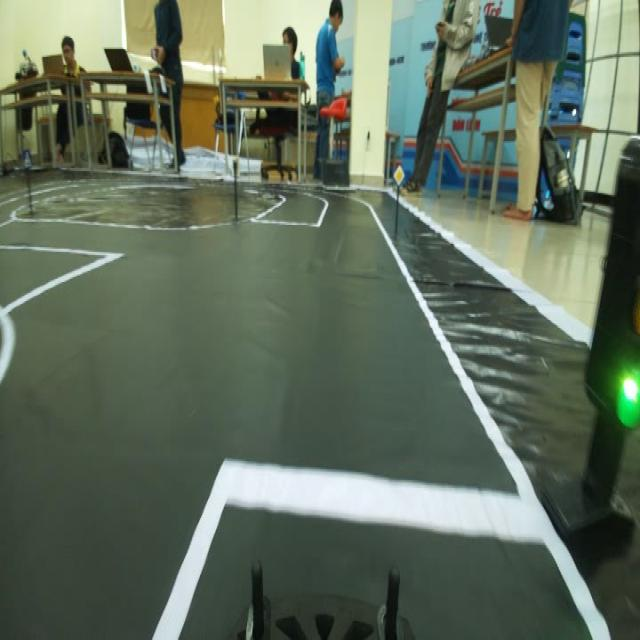trafficlight: (578, 124, 640, 453)
